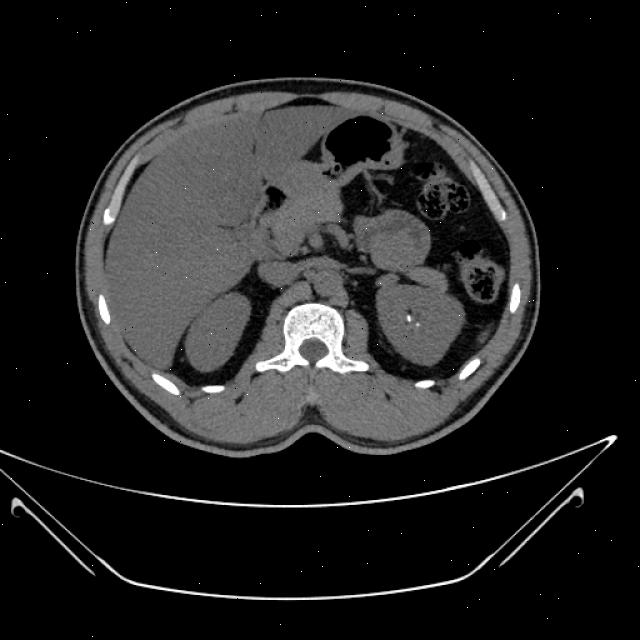kidneystone: (405, 310, 419, 327)
